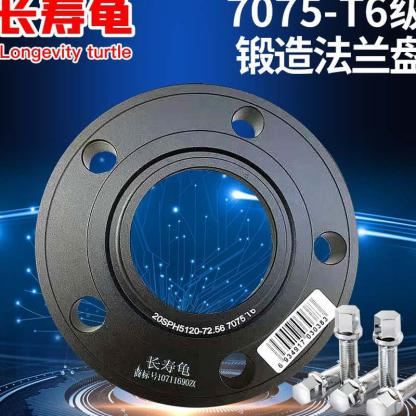FOD: (30, 81, 362, 410)
